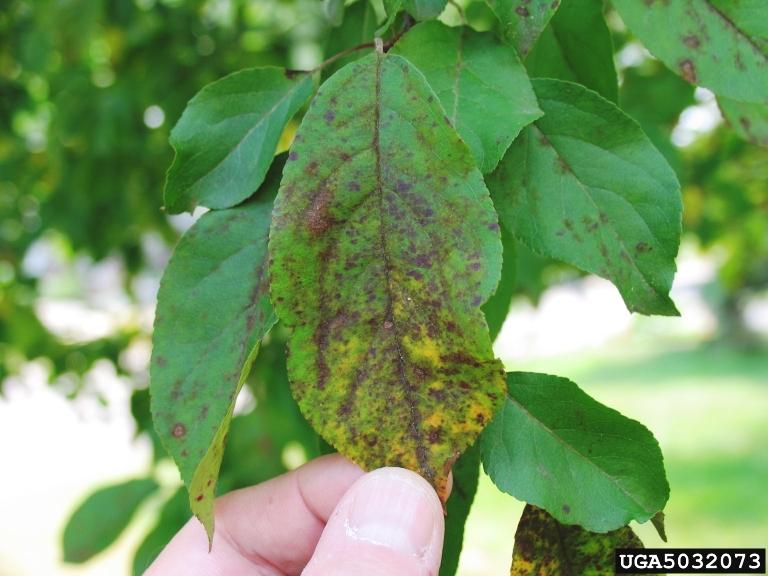Apple Scab Leaf: (262, 59, 566, 488)
